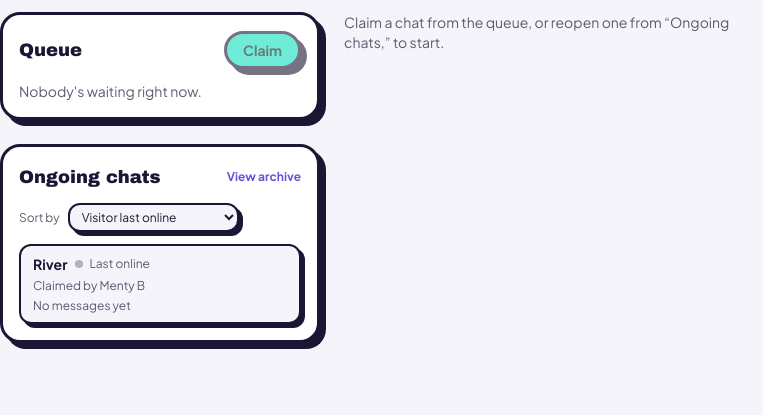
AdminDashboard › opens a panel for an already-claimed chat from the ongoing list
Click the button "River Last online Claimed by Menty B No messages yet". click: (50, 264)
box: x1=19 y1=244 x2=301 y2=324
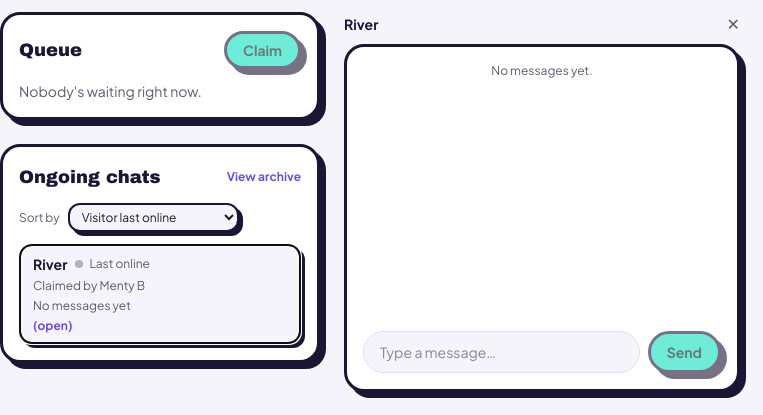
Expected: the field labelled "Type a message…" is shown, x1=363 y1=331 x2=640 y2=373
